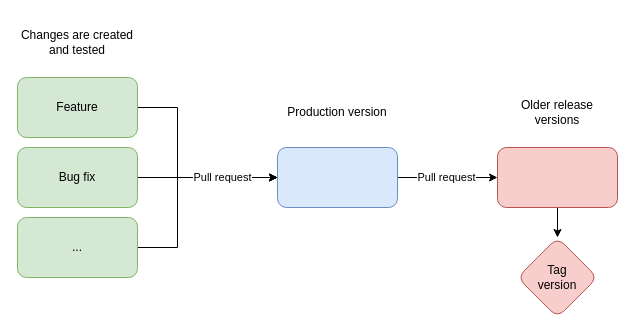
Image size: 635x335. Some labels were removed from this diagram. The shapes that lost their labels are listed below. From the top down, each one's box as (x1, y1, x2, y2) in pixels, then its label:
(276, 146, 398, 208): Main
(496, 146, 618, 208): Release
